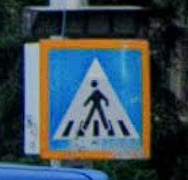trecere_pietoni: (38, 38, 153, 163)
